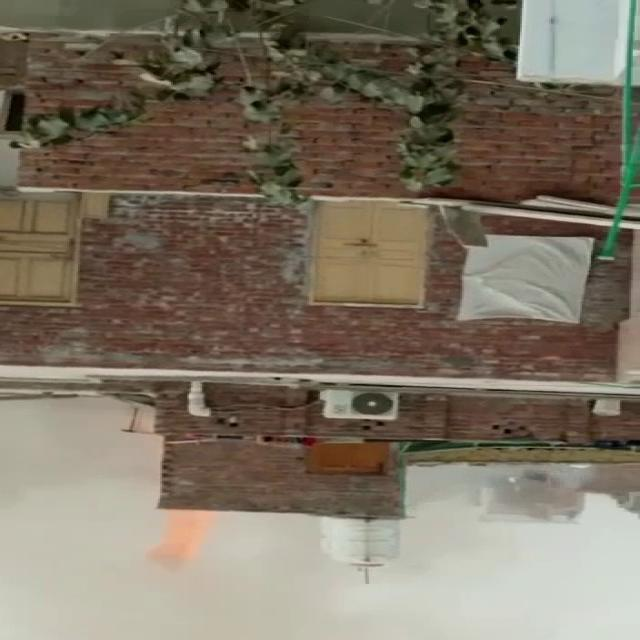Fire: (144, 512, 216, 584)
Smoke: (0, 397, 135, 506)
